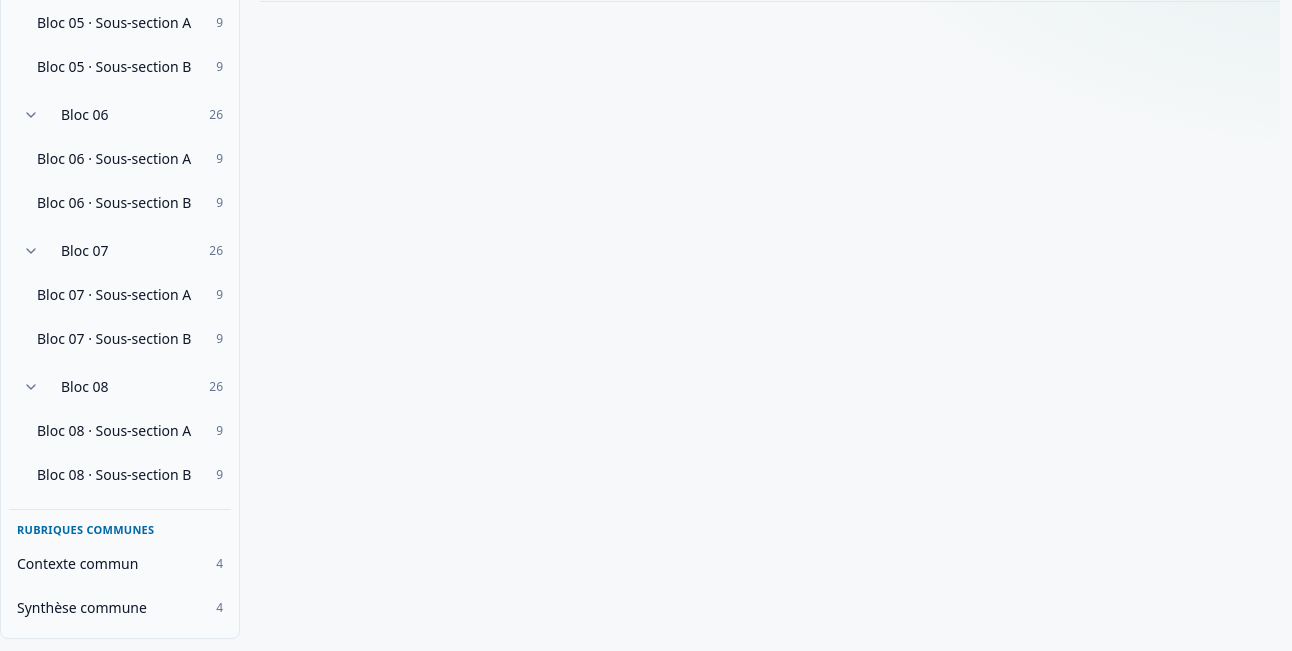
Éditeur de registre — structure du formulaire › ouvre directement une sous-section de fin de modèle sans traverser les précédentes
This screenshot has width=1292, height=651.
(page scrolled)
Expected: the text "Bloc 08 · Sous-section B · Variable 01" is not shown
Click the button with aria-label "Bloc 08 · Sous-section B · 9 variable(s)" at (130, 474), box [29,452,231,496]
(page scrolled)
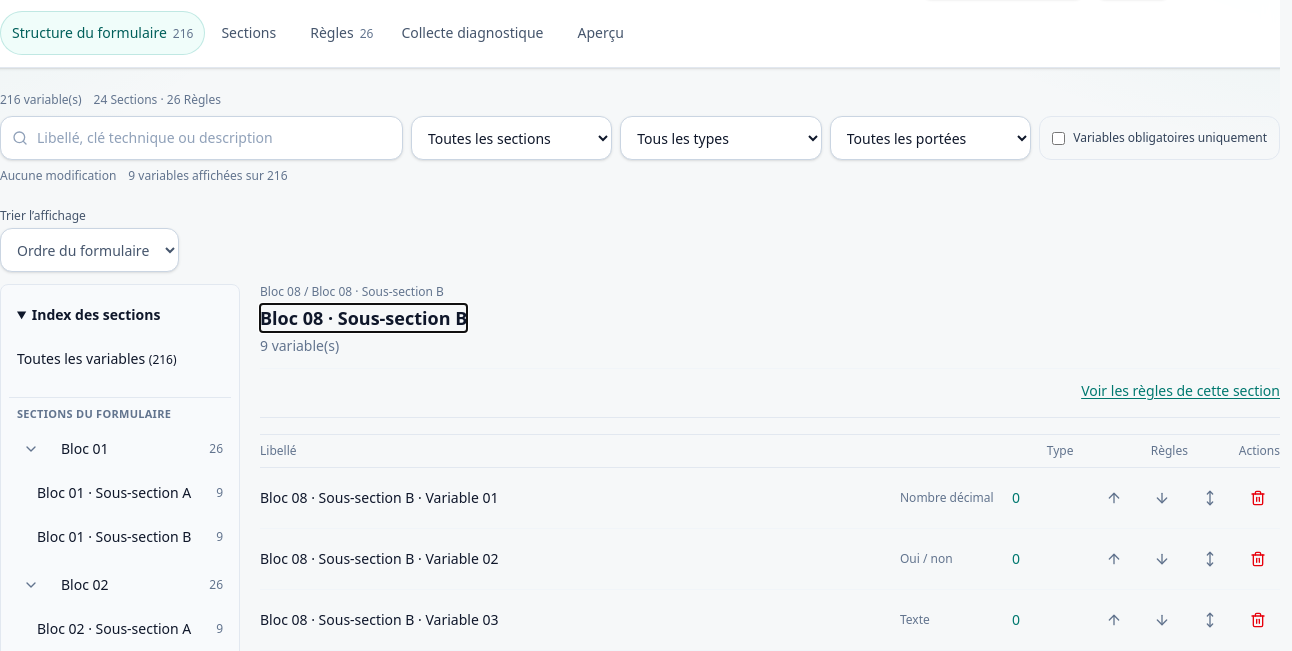
Now the heading "Bloc 08 · Sous-section B" is shown, box [260,304,467,332]
Now the button "Bloc 08 · Sous-section B · Variable 01" is shown, box [260,476,892,520]
Now the text "Bloc 08 / Bloc 08 · Sous-section B" is shown, box [260,283,444,300]
